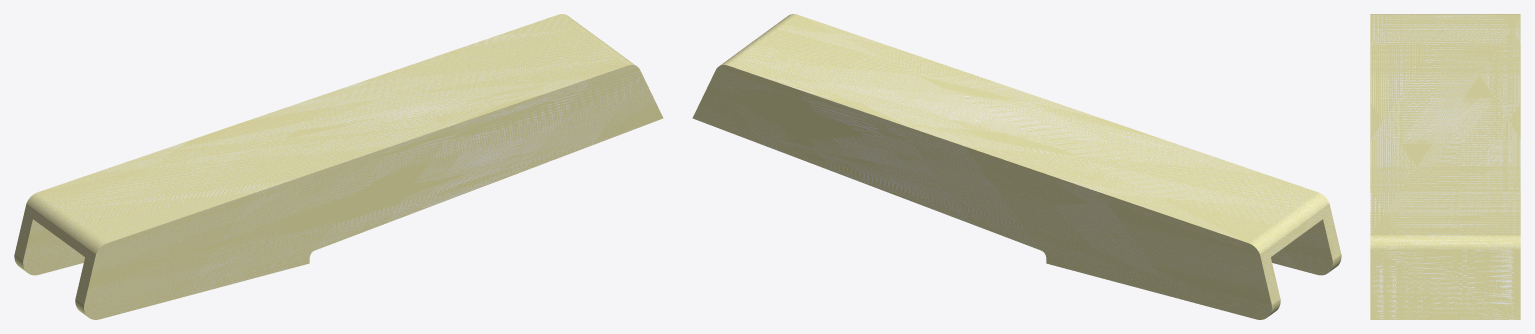
The model's file is original-1.obj.
3 renders of one model, left to right at view 1: azimuth 30°, elevation 25°; view 2: azimuth 150°, elevation 25°; view 3: azimuth 270°, elevation 25°, orthographic. The views are drawn at different scales.
Parts seen in each view (by area): view 1: Group2/mesh1/mesh1-geometry#mesh1-geometry; view 2: Group2/mesh1/mesh1-geometry#mesh1-geometry; view 3: Group2/mesh1/mesh1-geometry#mesh1-geometry.
Part boxes in pixels (<box>): Group2/mesh1/mesh1-geometry#mesh1-geometry: <box>14,14,663,319</box>; Group2/mesh1/mesh1-geometry#mesh1-geometry: <box>692,14,1341,319</box>; Group2/mesh1/mesh1-geometry#mesh1-geometry: <box>1370,14,1520,319</box>.
Bounding box in the file's own units: 1.76 × 0.3619 × 0.3652.
